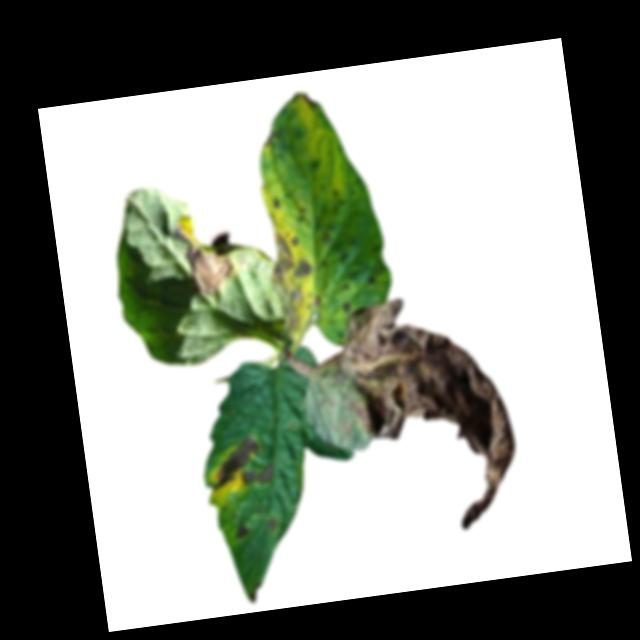Early_blight: (319, 289, 526, 544), (167, 209, 236, 302), (265, 228, 320, 338), (206, 433, 269, 494), (239, 462, 278, 489), (288, 89, 319, 115), (232, 519, 253, 542), (361, 273, 381, 290), (267, 517, 282, 533)
